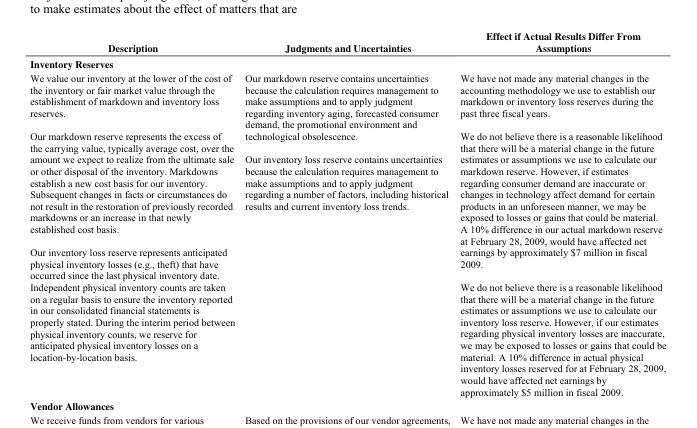table: (29, 28, 665, 396)
table column: (239, 28, 453, 396), (453, 28, 665, 396), (29, 28, 239, 396)
table column header: (29, 28, 665, 55)
table projected row header: (29, 55, 665, 71)
table row: (29, 71, 665, 396), (29, 28, 665, 55), (29, 55, 665, 71)
